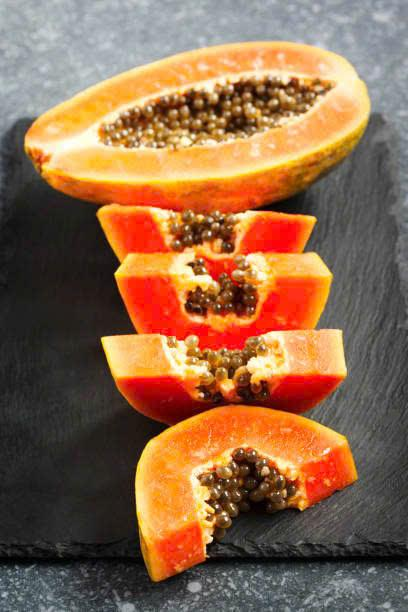papaya: (18, 26, 385, 201), (128, 405, 371, 576), (97, 321, 350, 415), (104, 251, 339, 339), (89, 191, 340, 260)
